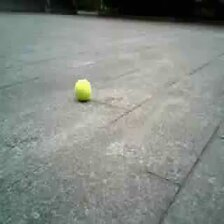tennis: (74, 80, 91, 100)
